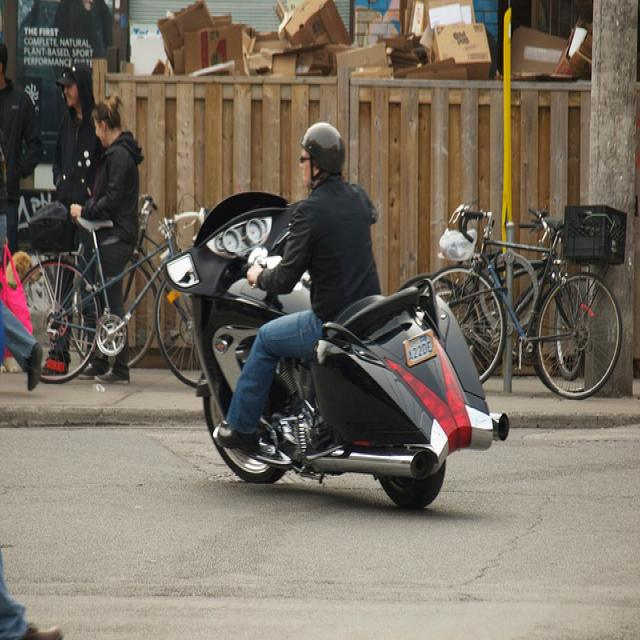motor: (164, 190, 511, 512)
